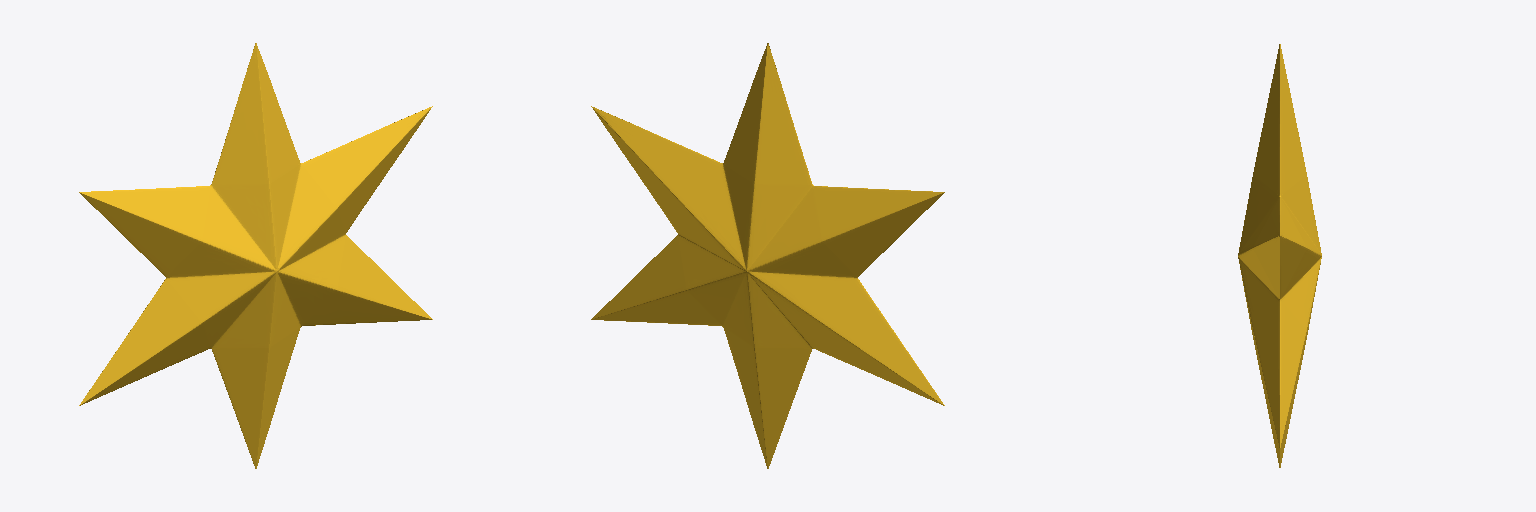
File: star1.obj
3 renders of one model, left to right at view 1: azimuth 30°, elevation 25°; view 2: azimuth 150°, elevation 25°; view 3: azimuth 270°, elevation 25°, orthographic.
Parts seen in each view (by area): view 1: FreeStar_by_Seth2o; view 2: FreeStar_by_Seth2o; view 3: FreeStar_by_Seth2o.
Part boxes in pixels (bbox=[...]): FreeStar_by_Seth2o: bbox=[79, 43, 432, 468]; FreeStar_by_Seth2o: bbox=[591, 43, 944, 468]; FreeStar_by_Seth2o: bbox=[1238, 44, 1321, 467].
Bounding box in the file's own units: 112 × 129 × 23.02.